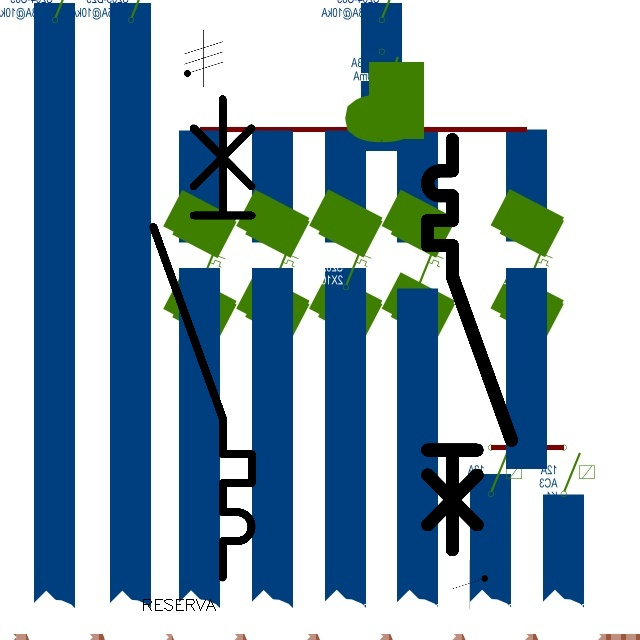interruptor_termomagnetico: (141, 86, 264, 589), (417, 129, 522, 560)
